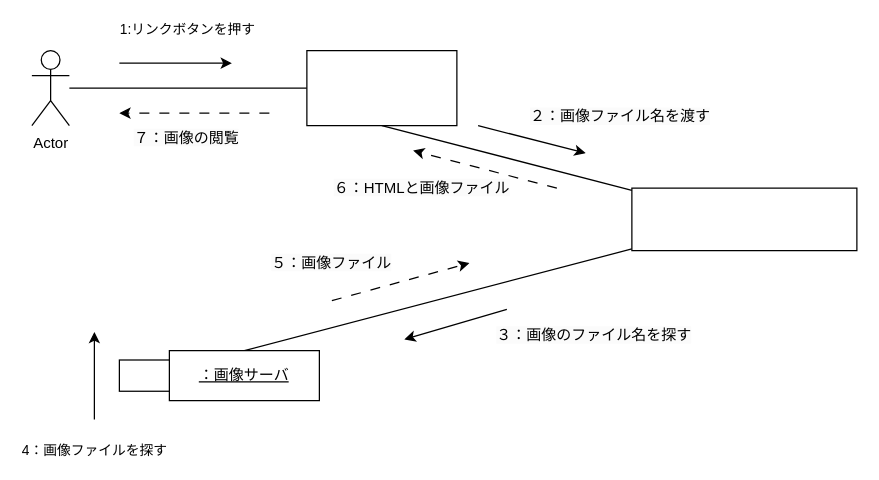
Some shapes in this 879 by 480 pixel diagram are drawn without their labels. Each missing label, with the centre of its shape:
:Webサーバ: the point at 744,219
：ブラウザ: the point at 381,87
